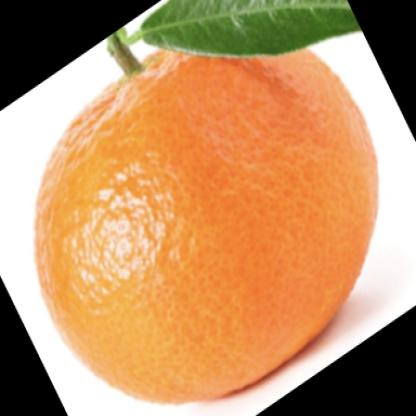fresh: (37, 38, 379, 397)
